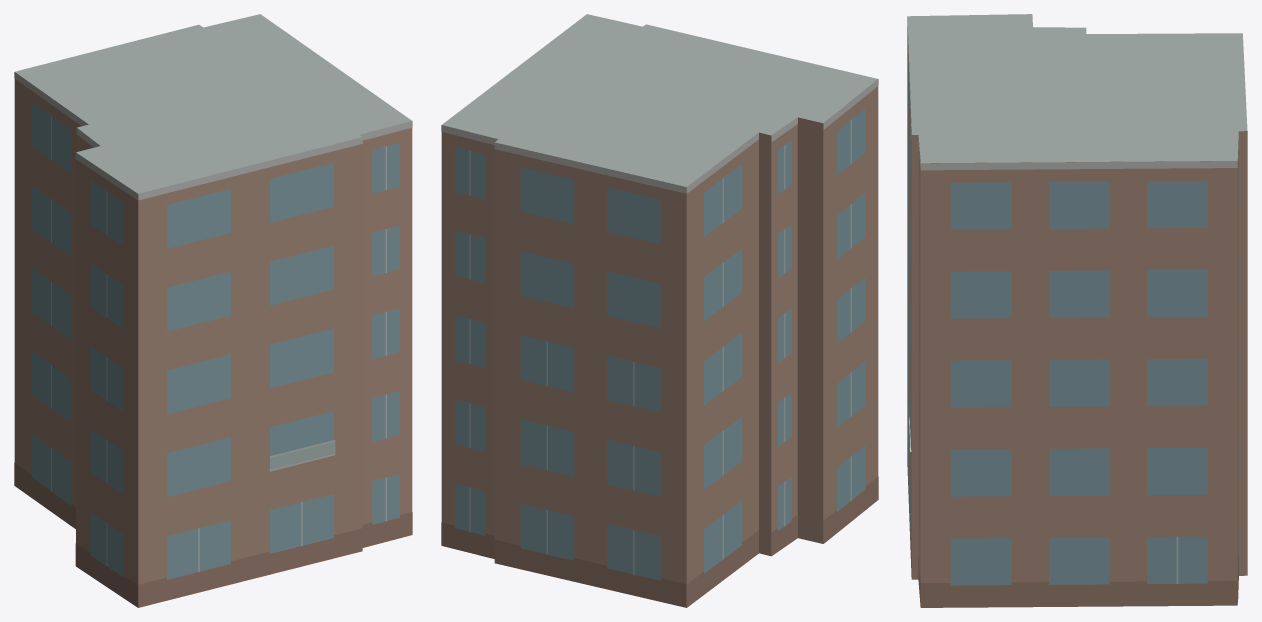
File: survey-upis-32571991.glb
3 renders of one model, left to right at view 1: azimuth 30°, elevation 25°; view 2: azimuth 150°, elevation 25°; view 3: azimuth 270°, elevation 25°, orthographic. The views are drawn at different scales.
Parts seen in each view (by area): view 1: survey-upis-32571991.tmp; view 2: survey-upis-32571991.tmp; view 3: survey-upis-32571991.tmp.
Part boxes in pixels (bbox=[...]): survey-upis-32571991.tmp: bbox=[14, 14, 412, 607]; survey-upis-32571991.tmp: bbox=[441, 14, 878, 607]; survey-upis-32571991.tmp: bbox=[907, 14, 1247, 607].
Size of the model in its own units: 10.95 by 15.2 by 10.55.
